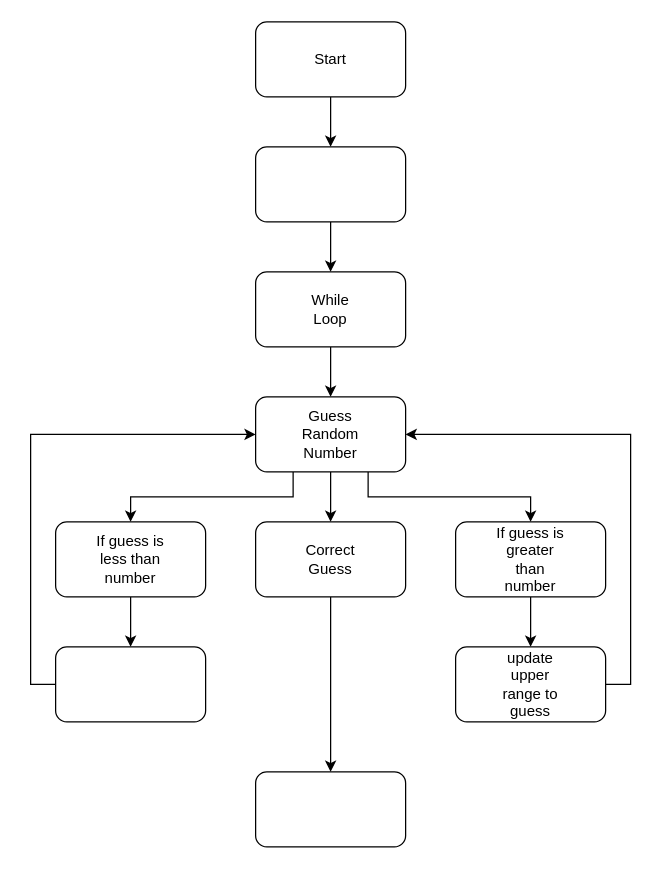
Image size: 663x869. Some labels were removed from this diagram. The shapes that lost their labels are listed below. From the top down, each one's centre as x and y in pixels, then its label:
At pixel 330 184: "Variable Declarations".
At pixel 130 684: "update lower range to guess".
At pixel 330 809: "Win Message".
